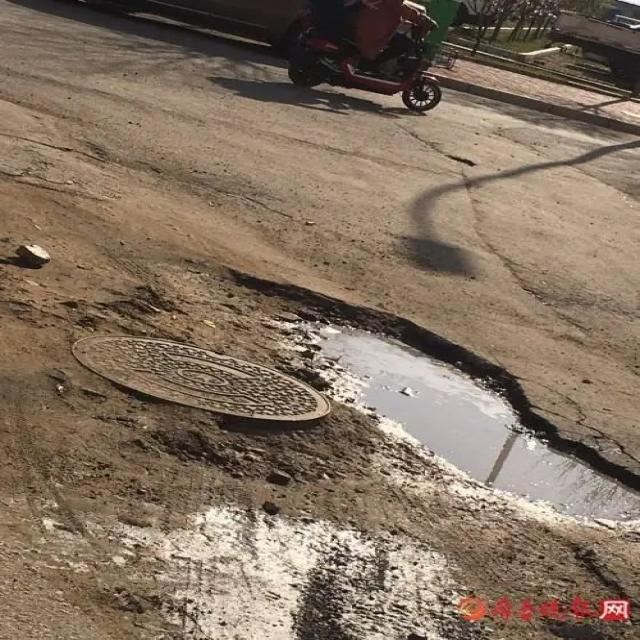Buraco: (219, 262, 640, 528)
